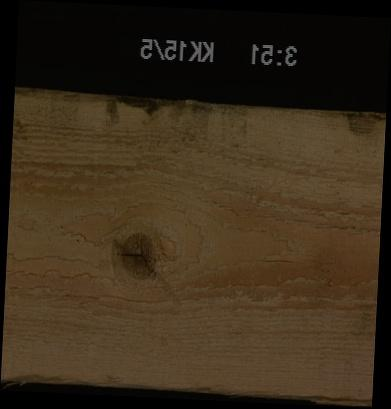sound_knot: (118, 228, 159, 281)
split: (254, 252, 298, 267)
wave: (0, 365, 160, 385), (174, 385, 371, 401)
